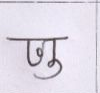u_matra: (35, 60, 64, 80)
